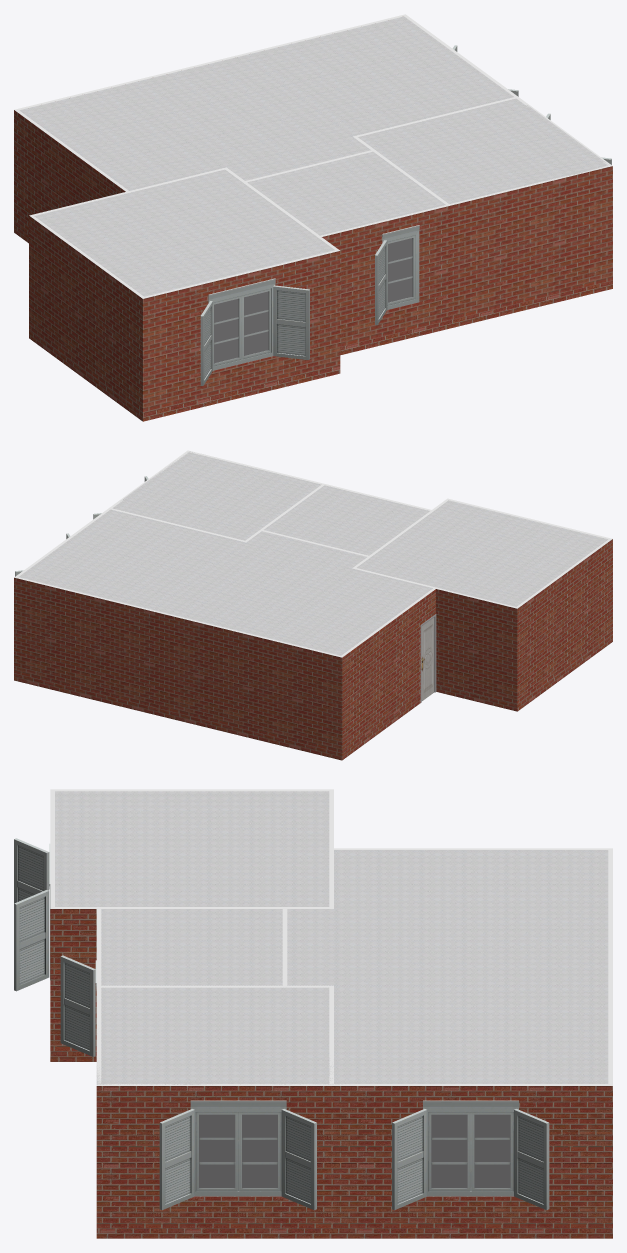
The model's file is house_0110200.FBX.
The picture shows the model from 3 angles, top to bottom: view 1: azimuth 30°, elevation 25°; view 2: azimuth 150°, elevation 25°; view 3: azimuth 270°, elevation 25°; orthographic projection. The views are drawn at different scales.
Visible parts, largest first — view 1: house_0110200_roof_100_00, house_0110200_outwall_100_06, house_0110200_outwall_100_04, house_0110200_outwall_100_03, house_0110200_floor_102_00, house_0110200_outwall_100_01, house_0110200_floor_103_00, house_0110200_tcx_100_06, house_0110200_tcx_100_04, house_0110200_inneredge_100_00, house_0110200_tcx_100_03, house_0110200_outedge_100_00 (+2 smaller); view 2: house_0110200_roof_100_00, house_0110200_outwall_100_00, house_0110200_outwall_100_03, house_0110200_outwall_100_01, house_0110200_outwall_100_02, house_0110200_tcx_100_00, house_0110200_outwall_101_01, house_0110200_inneredge_100_00, house_0110200_tcx_100_03, house_0110200_outedge_100_00, house_0110200_tcx_100_02, house_0110200_tcx_100_01 (+2 smaller); view 3: house_0110200_roof_100_00, house_0110200_outwall_100_07, house_0110200_floor_104_00, house_0110200_floor_101_00, house_0110200_tcx_100_07, house_0110200_floor_102_00, house_0110200_outwall_100_05, house_0110200_floor_103_00, house_0110200_inneredge_100_00, house_0110200_outedge_100_00, house_0110200_outedge_100_06, house_0110200_outedge_100_07 (+1 smaller).
Part boxes in pixels (x1,y1,x2,y2): house_0110200_roof_100_00: (19, 16, 608, 296); house_0110200_outwall_100_06: (322, 166, 612, 346); house_0110200_outwall_100_04: (143, 251, 340, 413); house_0110200_outwall_100_03: (29, 216, 142, 412); house_0110200_floor_102_00: (200, 278, 309, 385); house_0110200_outwall_100_01: (14, 110, 125, 234); house_0110200_floor_103_00: (375, 225, 419, 325); house_0110200_tcx_100_06: (340, 280, 612, 355); house_0110200_tcx_100_04: (143, 365, 340, 421); house_0110200_inneredge_100_00: (126, 97, 515, 236); house_0110200_tcx_100_03: (29, 330, 142, 421); house_0110200_outedge_100_00: (14, 14, 405, 110); house_0110200_roof_100_00: (18, 451, 608, 655); house_0110200_outwall_100_00: (14, 577, 342, 753); house_0110200_outwall_100_03: (517, 539, 612, 704); house_0110200_outwall_100_01: (342, 589, 435, 753); house_0110200_outwall_100_02: (436, 589, 517, 704); house_0110200_tcx_100_00: (14, 673, 342, 760); house_0110200_outwall_101_01: (420, 614, 436, 702); house_0110200_inneredge_100_00: (111, 484, 435, 588); house_0110200_tcx_100_03: (517, 635, 612, 711); house_0110200_outedge_100_00: (15, 577, 341, 657); house_0110200_tcx_100_02: (436, 685, 517, 711); house_0110200_tcx_100_01: (342, 696, 420, 759); house_0110200_roof_100_00: (55, 791, 608, 1084); house_0110200_outwall_100_07: (96, 1086, 612, 1228); house_0110200_floor_104_00: (159, 1100, 316, 1210); house_0110200_floor_101_00: (392, 1100, 549, 1210); house_0110200_tcx_100_07: (96, 1228, 612, 1238); house_0110200_floor_102_00: (14, 838, 50, 991); house_0110200_outwall_100_05: (50, 909, 96, 1051); house_0110200_floor_103_00: (60, 955, 96, 1056); house_0110200_inneredge_100_00: (101, 848, 333, 1083); house_0110200_outedge_100_00: (608, 848, 612, 1085); house_0110200_outedge_100_06: (96, 907, 101, 1085); house_0110200_outedge_100_07: (97, 1084, 612, 1085).
Size of the model in its own units: 1270 by 291 by 1030.
Materials: 43 (42 with a texture image).
